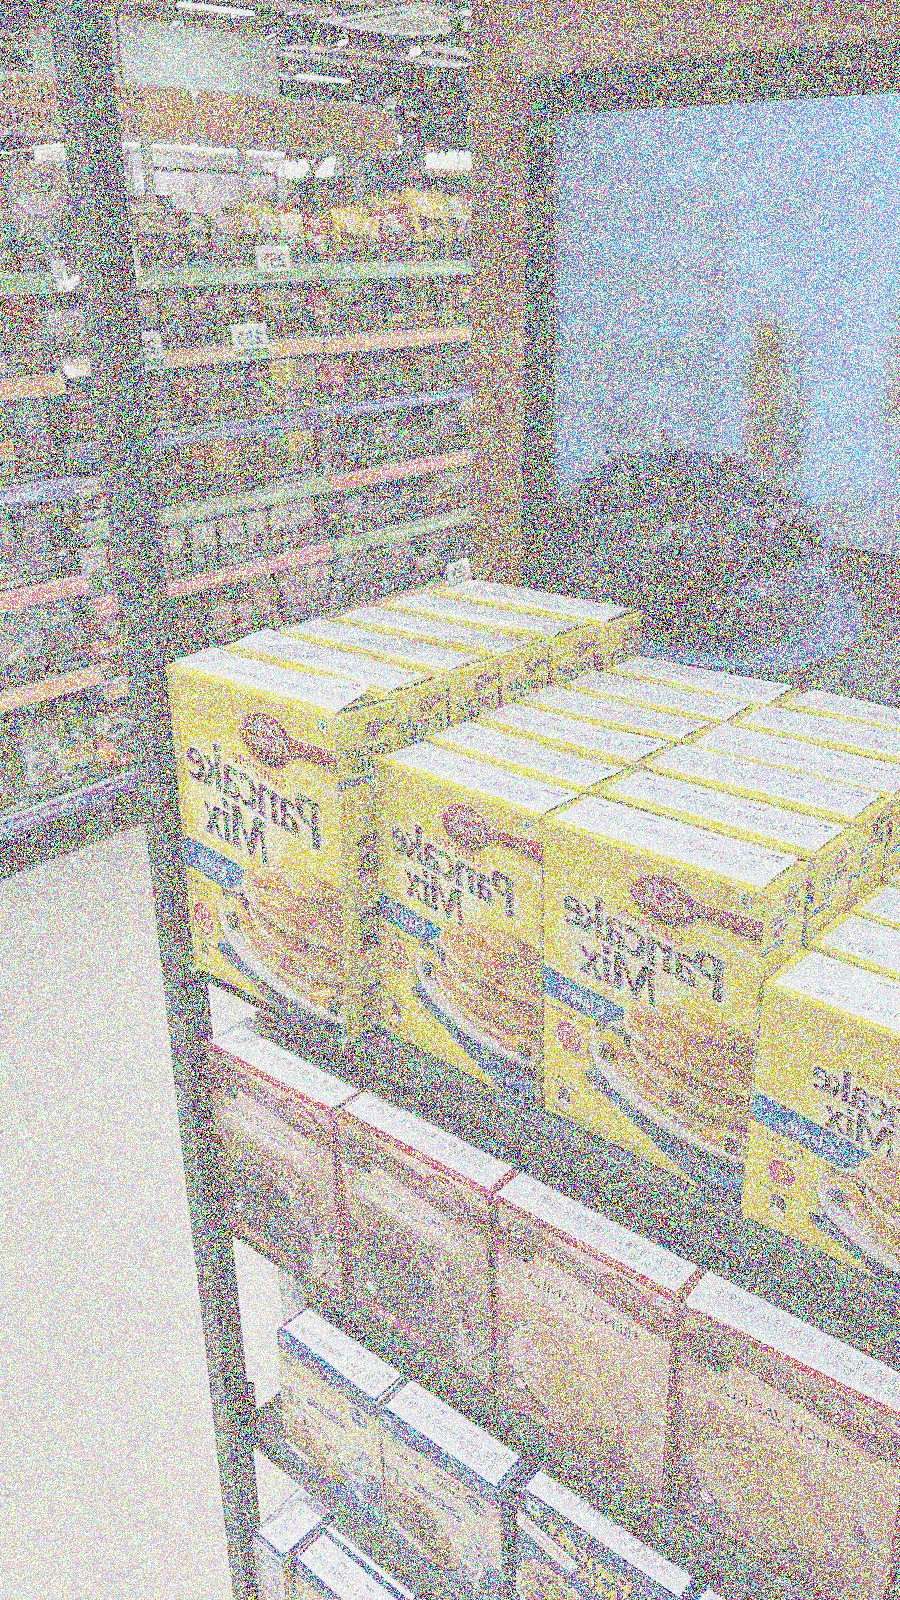Betty Crocker Pancake Mix: (535, 818, 815, 1202), (177, 679, 393, 1031), (369, 779, 584, 1096), (746, 982, 897, 1270), (308, 602, 554, 704), (257, 612, 459, 726), (370, 585, 565, 688), (423, 574, 592, 680), (448, 573, 646, 655)
